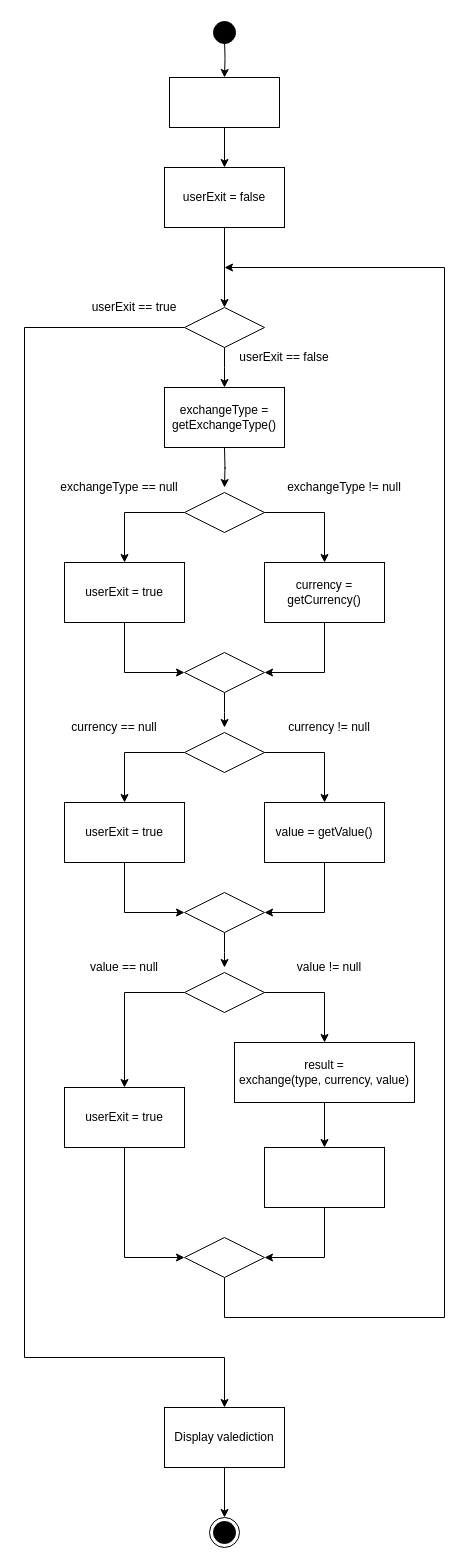
This 470x1565 diagram has some shape labels left out. The shapes that lost their labels are listed below. From the top down, each one's box as (x1, y1, x2, y2) in pixels, then its label:
(168, 76, 280, 128): Display welcome message
(264, 1146, 384, 1208): Display result
